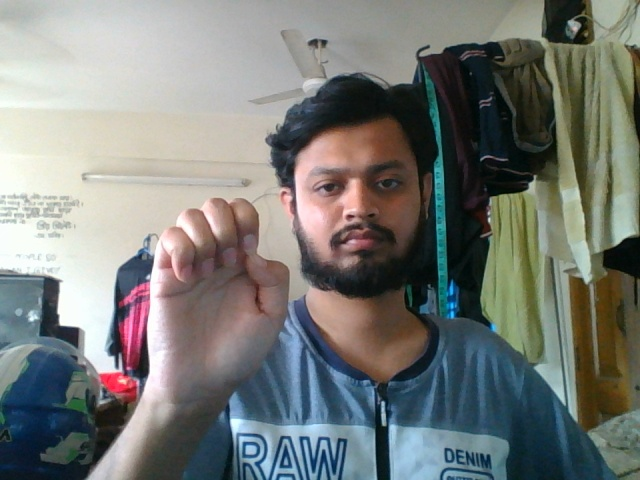sha: (143, 195, 296, 441)
